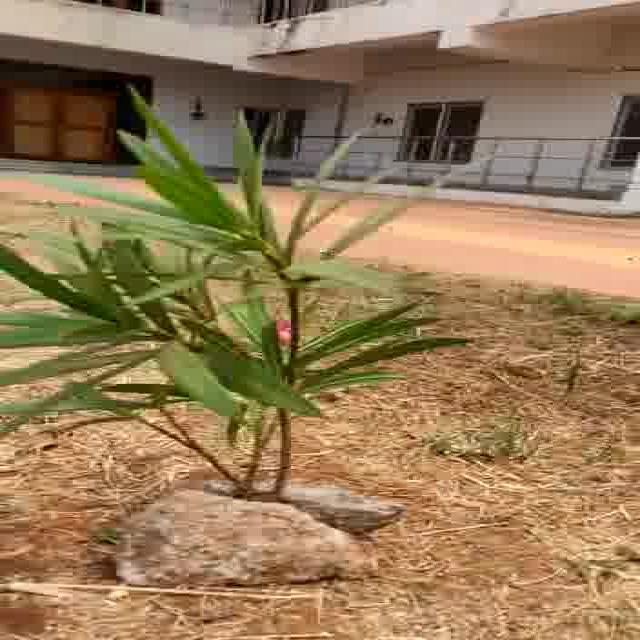OLEANDER: (0, 68, 485, 476)
